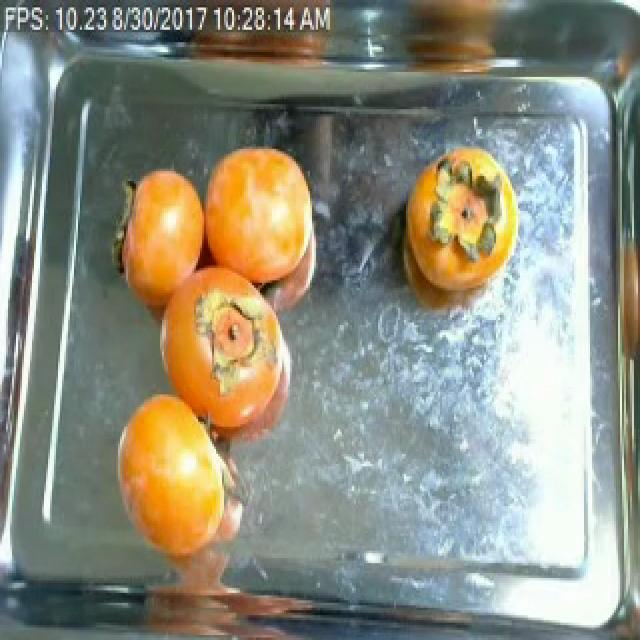Fruit: (104, 382, 240, 576), (190, 129, 316, 315), (412, 134, 528, 290), (112, 156, 218, 315)
